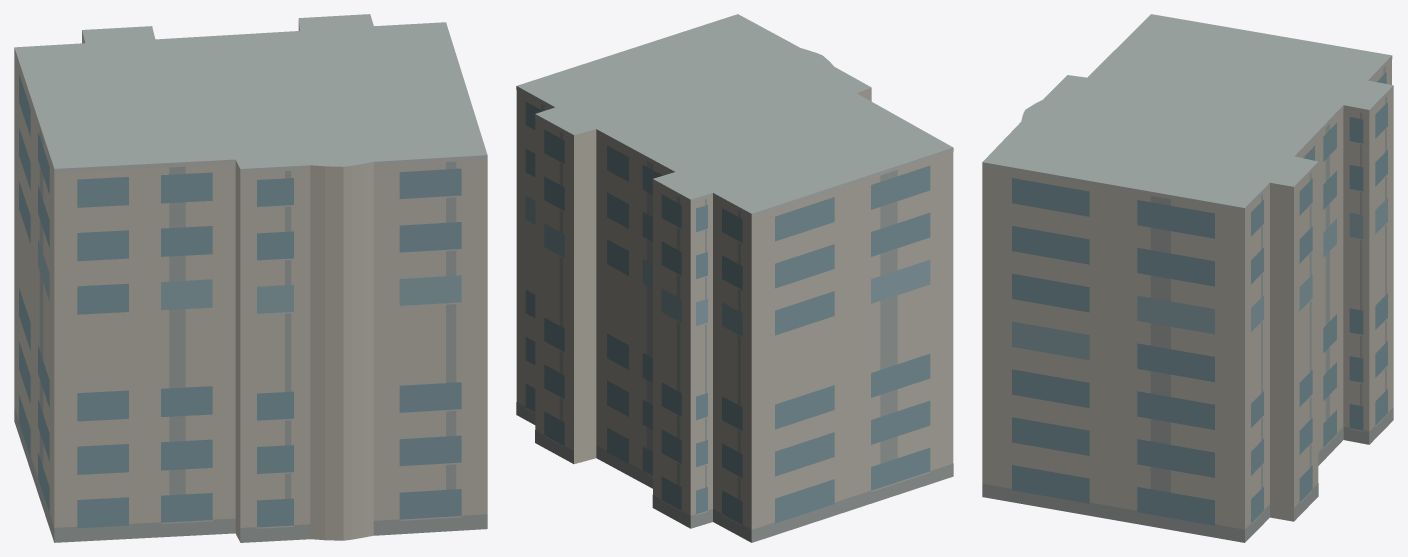
File: survey-upis-32939579.glb
3 views of the same model, side by side, from view 1: azimuth 30°, elevation 25°; view 2: azimuth 150°, elevation 25°; view 3: azimuth 270°, elevation 25° (orthographic). The views are drawn at different scales.
Visible parts, largest first — view 1: survey-upis-32939579.tmp; view 2: survey-upis-32939579.tmp; view 3: survey-upis-32939579.tmp.
Boxes of the visible parts, x1,y1,x2,y2 form: survey-upis-32939579.tmp: [14, 14, 487, 542]; survey-upis-32939579.tmp: [516, 14, 953, 542]; survey-upis-32939579.tmp: [982, 14, 1393, 542].
Size of the model in its own units: 24.75 by 19.9 by 22.16.
